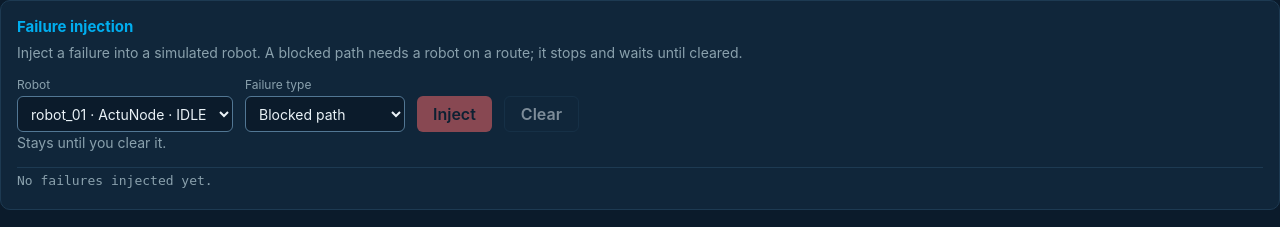
FailurePanel › disables BLOCKED_PATH off a route but not LOW_BATTERY
The width and height of the screenshot is (1280, 227).
Expected: the button "Inject" is disabled, 417,96 -> 492,132
Select "Low battery" in the dropdown labelled "Failure type". click: (325, 114)
box: 245,96 -> 405,132
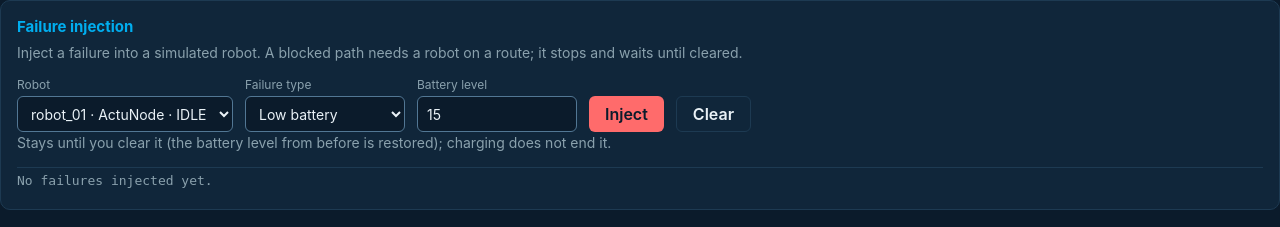
Expected: the button "Inject" is enabled, 589,96 -> 664,132
